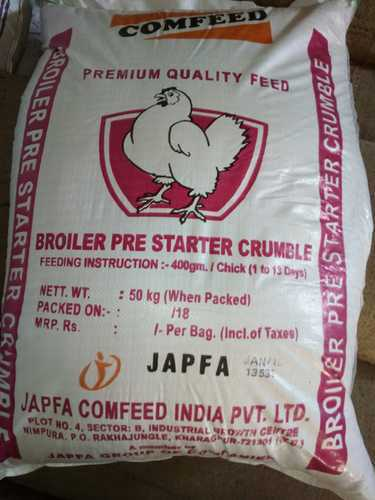feed_bag: (2, 5, 375, 500)
